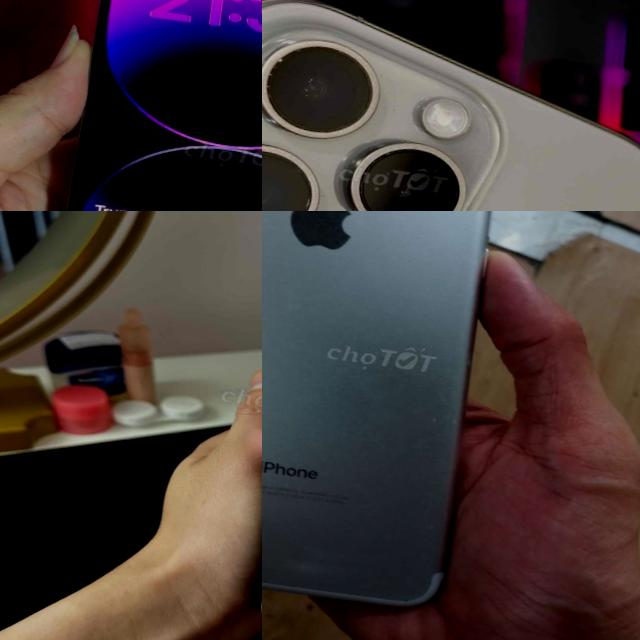scratch: (262, 11, 485, 211), (404, 482, 466, 580), (266, 557, 373, 597), (414, 383, 468, 451), (360, 434, 392, 460), (399, 592, 423, 614)
